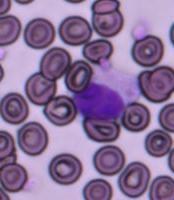L: (74, 67, 136, 123)
